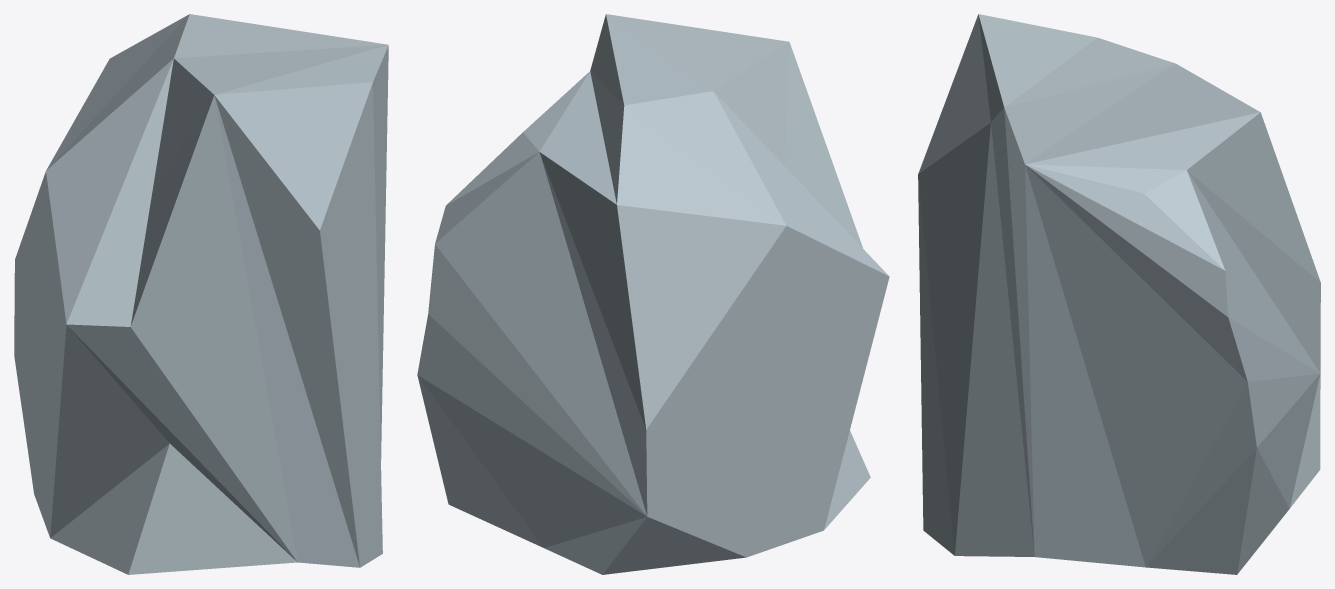
Rendered from pierrebleue.gltf.
The picture shows the model from 3 angles, left to right: view 1: azimuth 30°, elevation 25°; view 2: azimuth 150°, elevation 25°; view 3: azimuth 270°, elevation 25°; orthographic projection. The views are drawn at different scales.
Visible parts, largest first — view 1: group1295984436; view 2: group1295984436; view 3: group1295984436.
Boxes of the visible parts, x1=… form: group1295984436: x1=14, y1=14, x2=388, y2=574; group1295984436: x1=417, y1=14, x2=889, y2=574; group1295984436: x1=918, y1=14, x2=1320, y2=574.
Bounding box in the file's own units: 0.292 × 0.3474 × 0.2705.
